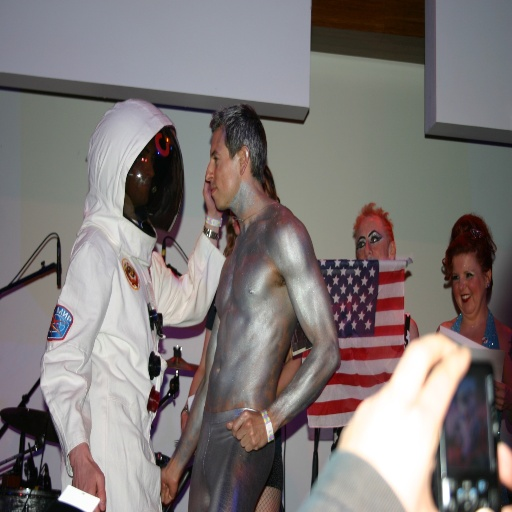hand: (335, 330, 473, 511), (224, 411, 271, 462), (70, 458, 105, 511), (495, 441, 511, 511), (202, 180, 224, 218), (161, 466, 178, 507), (495, 378, 511, 416), (180, 414, 188, 435)
